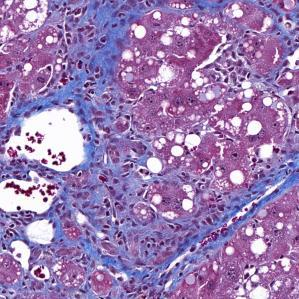fibrosis: (52, 217, 207, 299), (76, 117, 165, 234), (57, 3, 139, 108)
